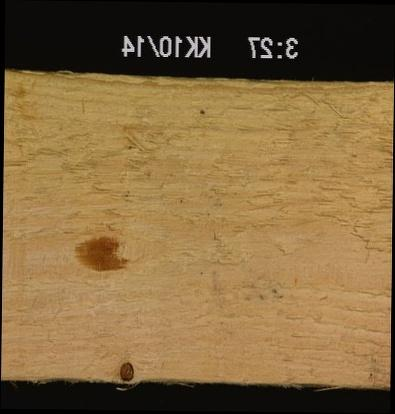dry_knot: (116, 360, 137, 382)
wave: (35, 371, 195, 391)
